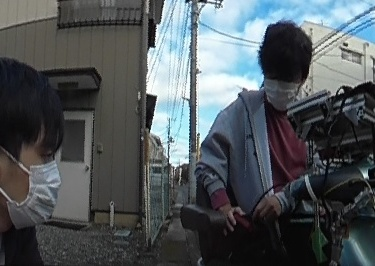person: (219, 24, 326, 228)
